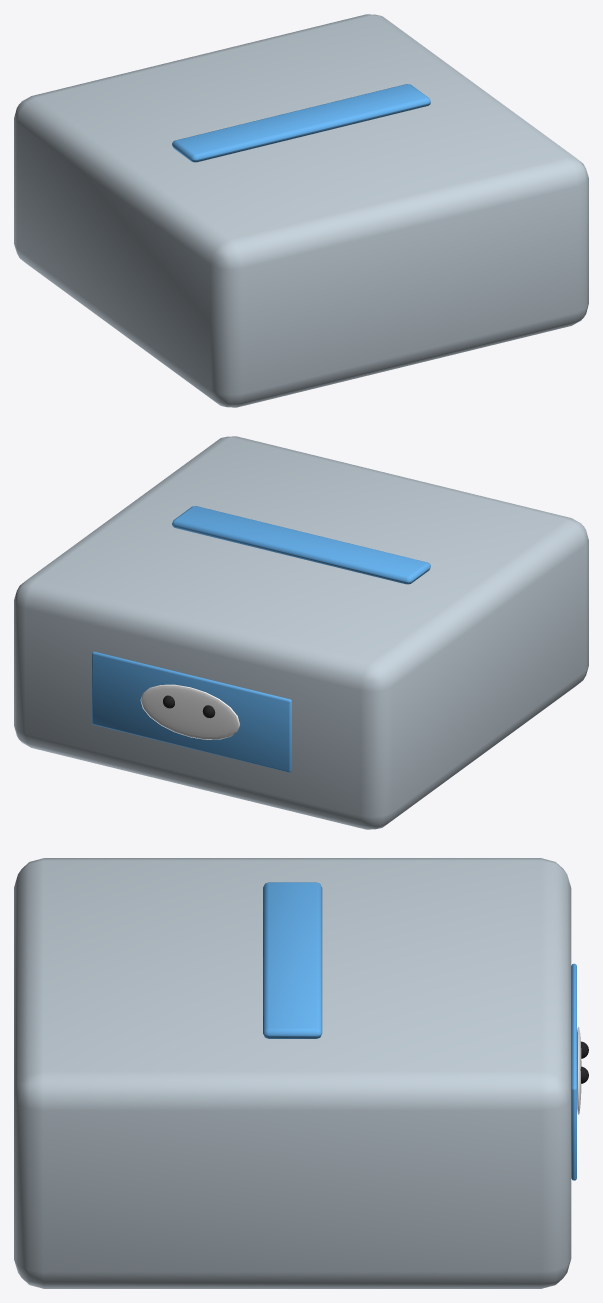
The model's file is diapers.fbx.
3 views of the same model, one above another, from view 1: azimuth 30°, elevation 25°; view 2: azimuth 150°, elevation 25°; view 3: azimuth 270°, elevation 25° (orthographic). The views are drawn at different scales.
Parts seen in each view (by area): view 1: Diapers (Bulk); view 2: Diapers (Bulk); view 3: Diapers (Bulk).
Part boxes in pixels (x1,y1,x2,y2): Diapers (Bulk): (14,14,588,407); Diapers (Bulk): (14,436,588,829); Diapers (Bulk): (14,858,588,1288).
Bounding box in the file's own units: 1.88 × 0.84 × 1.94.
